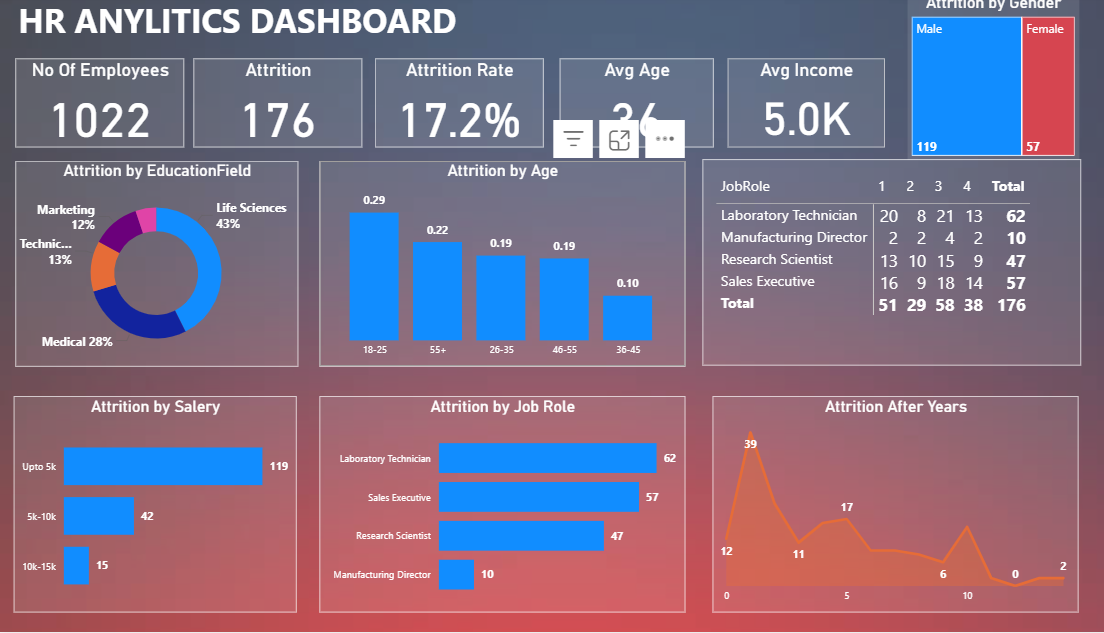

The page's visual inventory and layout, read from the dashboard file:
{"tool":"powerbi","page":{"name":"Page 1","canvas":[1280,720],"ordinal":0},"visuals":[{"type":"card","title":"Avg Age","fields":{"Values":["Avg(HR_Analytics.Age)"]},"box":[633.3,73.3,173.3,100],"z":0},{"type":"card","title":"Attrition Rate","fields":{"Values":["HR_Analytics.AttritionRate"]},"box":[425,73.3,190,100],"z":1000},{"type":"card","title":"Attrition","fields":{"Values":["Sum(HR_Analytics.AttritionCount)"]},"box":[221.7,73.3,190,100],"z":2000},{"type":"card","title":"Avg  Income","fields":{"Values":["Avg(HR_Analytics.MonthlyIncome)"]},"box":[823.3,73.3,176.7,100],"z":3000},{"type":"card","title":"No Of Employees","fields":{"Values":["CountNonNull(HR_Analytics.EmpID)"]},"box":[20,73.3,190,100],"z":4000},{"type":"donutChart","title":"Attrition  by EducationField","fields":{"Category":["HR_Analytics.EducationField"],"Y":["Sum(HR_Analytics.AttritionCount)"]},"box":[20,188.3,318.3,231.7],"z":5000},{"type":"columnChart","title":"Attrition  by Age ","fields":{"Y":["Avg(HR_Analytics.AttritionCount)"],"Category":["HR_Analytics.AgeGroup"]},"box":[363.3,188.3,411.7,231.7],"z":6000},{"type":"pivotTable","fields":{"Columns":["HR_Analytics.JobSatisfaction"],"Values":["Sum(HR_Analytics.AttritionCount)"],"Rows":["HR_Analytics.JobRole"]},"box":[794,188,426,232],"z":7000},{"type":"barChart","title":"Attrition  by Salery ","fields":{"Category":["HR_Analytics.SalarySlab"],"Y":["Sum(HR_Analytics.AttritionCount)"]},"box":[18.3,455,318.3,243.3],"z":8000},{"type":"barChart","title":"Attrition  by Job Role","fields":{"Y":["Sum(HR_Analytics.AttritionCount)"],"Category":["HR_Analytics.JobRole"]},"box":[363.3,455,411.7,243.3],"z":9000},{"type":"areaChart","title":"Attrition  After Years","fields":{"Category":["HR_Analytics.YearsAtCompany"],"Y":["Sum(HR_Analytics.AttritionCount)"]},"box":[806.7,455,411.7,243.3],"z":10000},{"type":"treemap","title":"Attrition  by Gender","fields":{"Group":["HR_Analytics.Gender"],"Values":["Sum(HR_Analytics.AttritionCount)"]},"box":[1025,0,193.3,188.3],"z":11000},{"type":"textbox","box":[18.3,0,528.3,73.3],"z":12000}]}

Visuals, with their boxes in screenshot pixels (x1, y1, x2, y2), scaled from the page's 1280x720 canvas onto the 1104x633 screenshot:
"Avg Age" card: 546,64,696,152
"Attrition Rate" card: 367,64,530,152
"Attrition" card: 191,64,355,152
"Avg  Income" card: 710,64,862,152
"No Of Employees" card: 17,64,181,152
"Attrition  by EducationField" donutChart: 17,166,292,369
"Attrition  by Age " columnChart: 313,166,668,369
pivotTable - HR_Analytics.JobSatisfaction x Sum(HR_Analytics.AttritionCount): 685,165,1052,369
"Attrition  by Salery " barChart: 16,400,290,614
"Attrition  by Job Role" barChart: 313,400,668,614
"Attrition  After Years" areaChart: 696,400,1051,614
"Attrition  by Gender" treemap: 884,0,1051,166
textbox: 16,0,471,64
